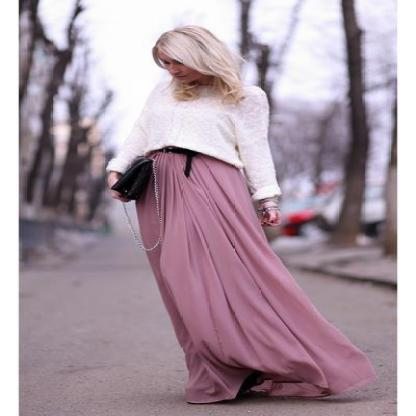bag: (112, 160, 159, 203)
shirt: (107, 76, 280, 198)
skirt: (136, 152, 374, 405)
